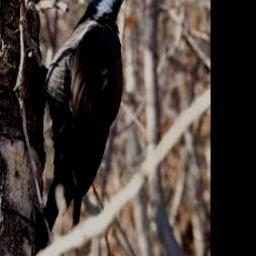Woodpecker: (38, 0, 138, 255)
